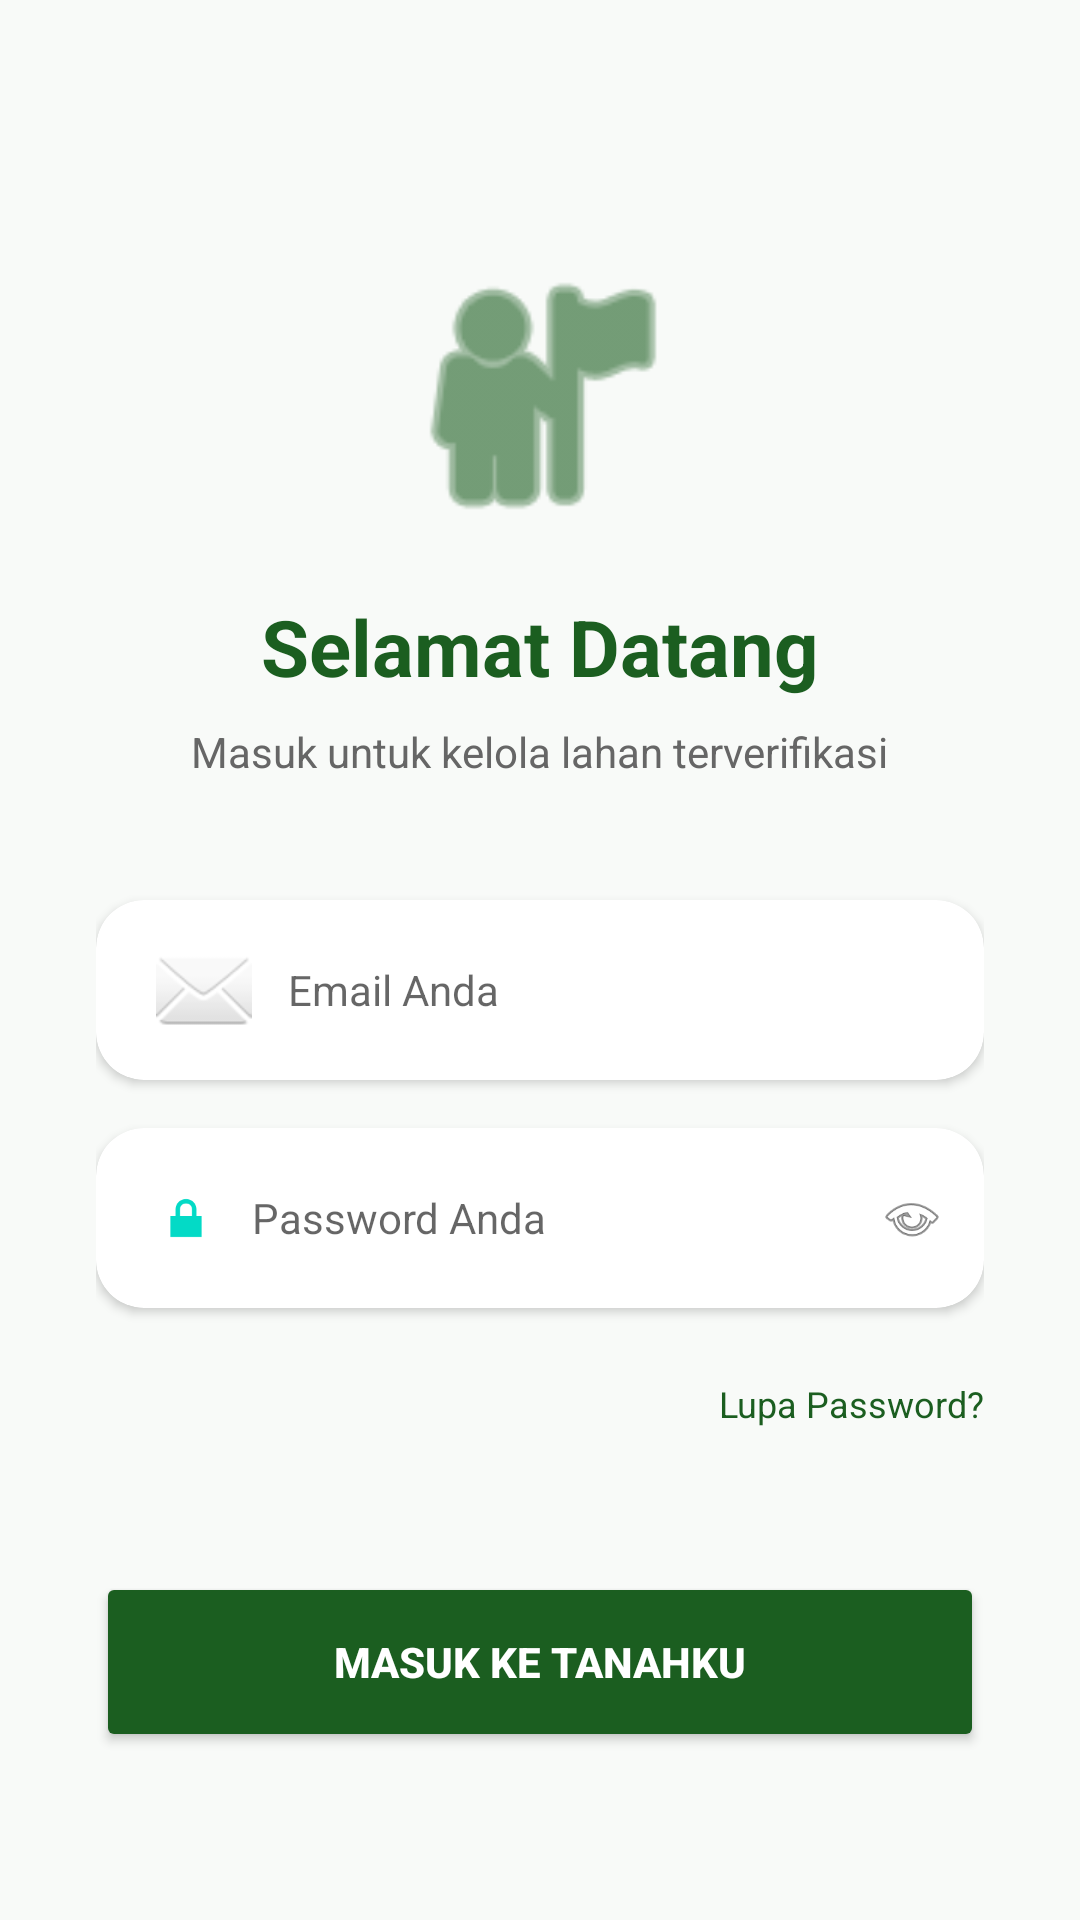

Locate icon controls on the screen. Image size 1080×1920, boxes as {"left": x1, "top": y1, "right": x2, "bottom": y2}.
Ikon Password: {"left": 170, "top": 1199, "right": 202, "bottom": 1237}
